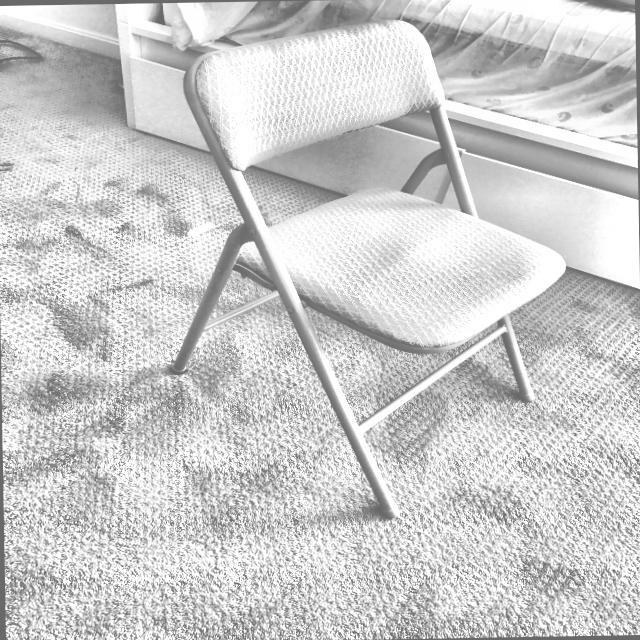chair: (158, 12, 564, 524)
